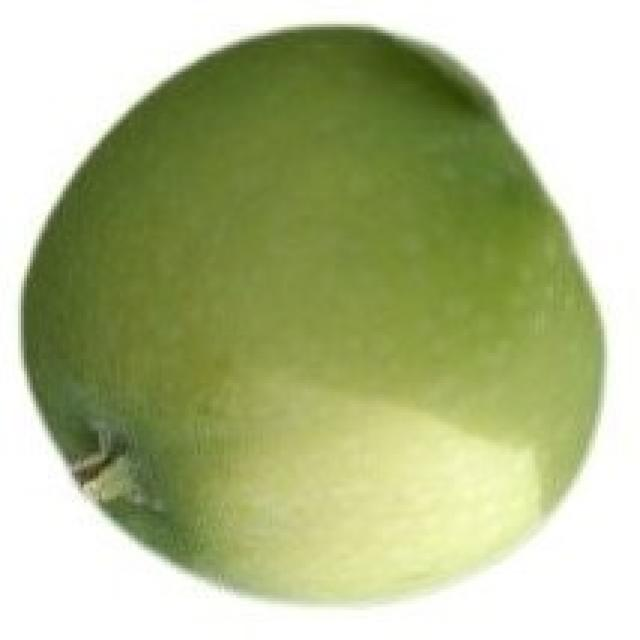50-_ripeness: (20, 33, 602, 602)
